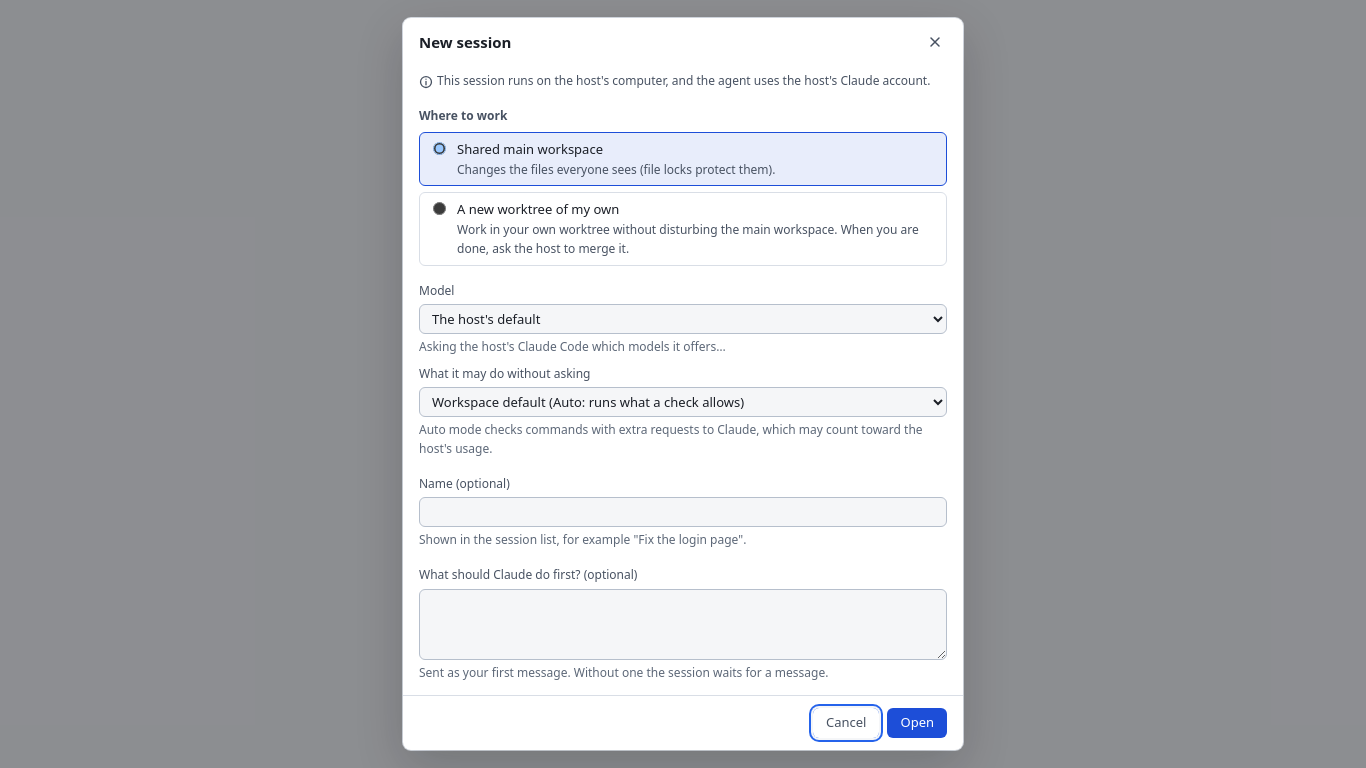
Test: new session dialog: where it runs (R9) › a repository that cannot hold a worktree yet: the host refuses with the reason and what to do, and the dialog says it
What coordinates should you click on to do the following:
click the radio button labelled "A new worktree of my own"
I would click on:
 (440, 209)
Its box is [433,202,446,215].
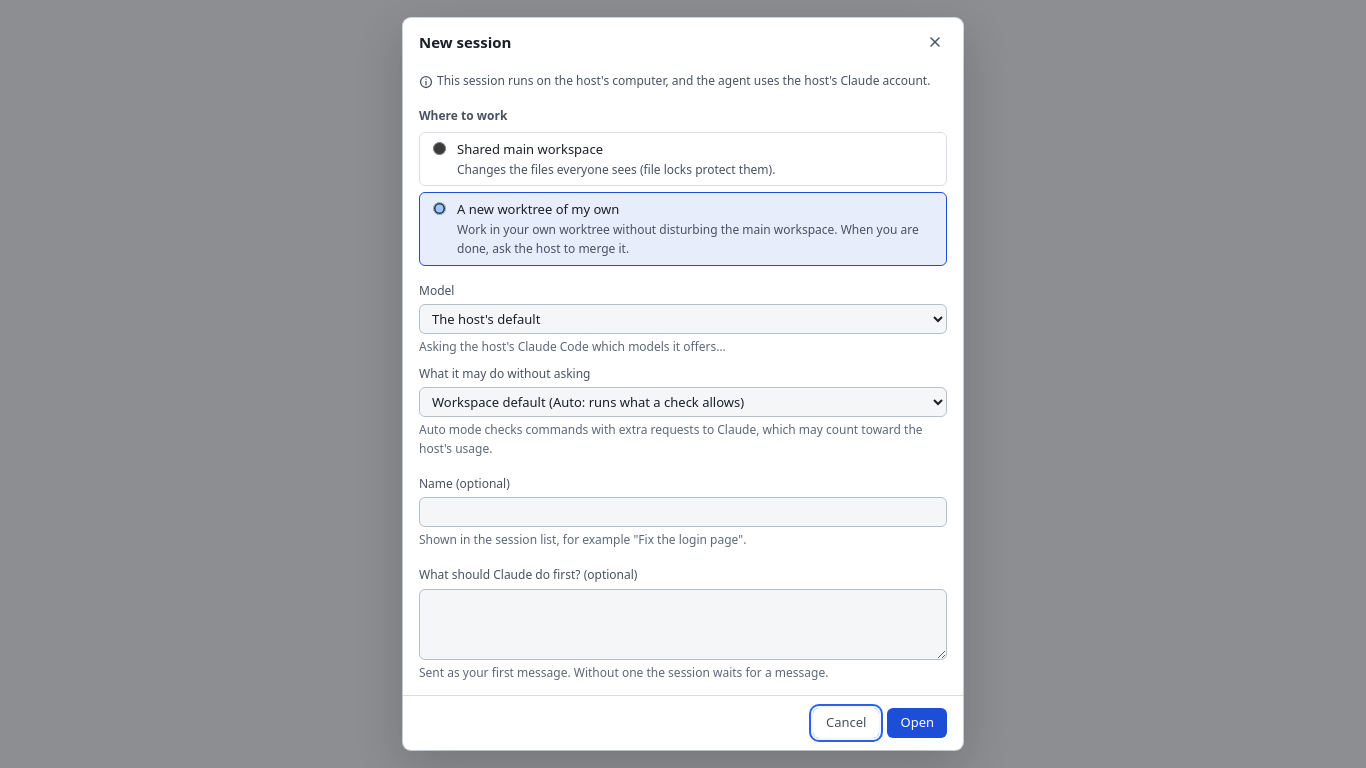
What coordinates should you click on to do the following:
click the button "Open"
I would click on:
 (917, 723)
Its box is [888,708,947,738].
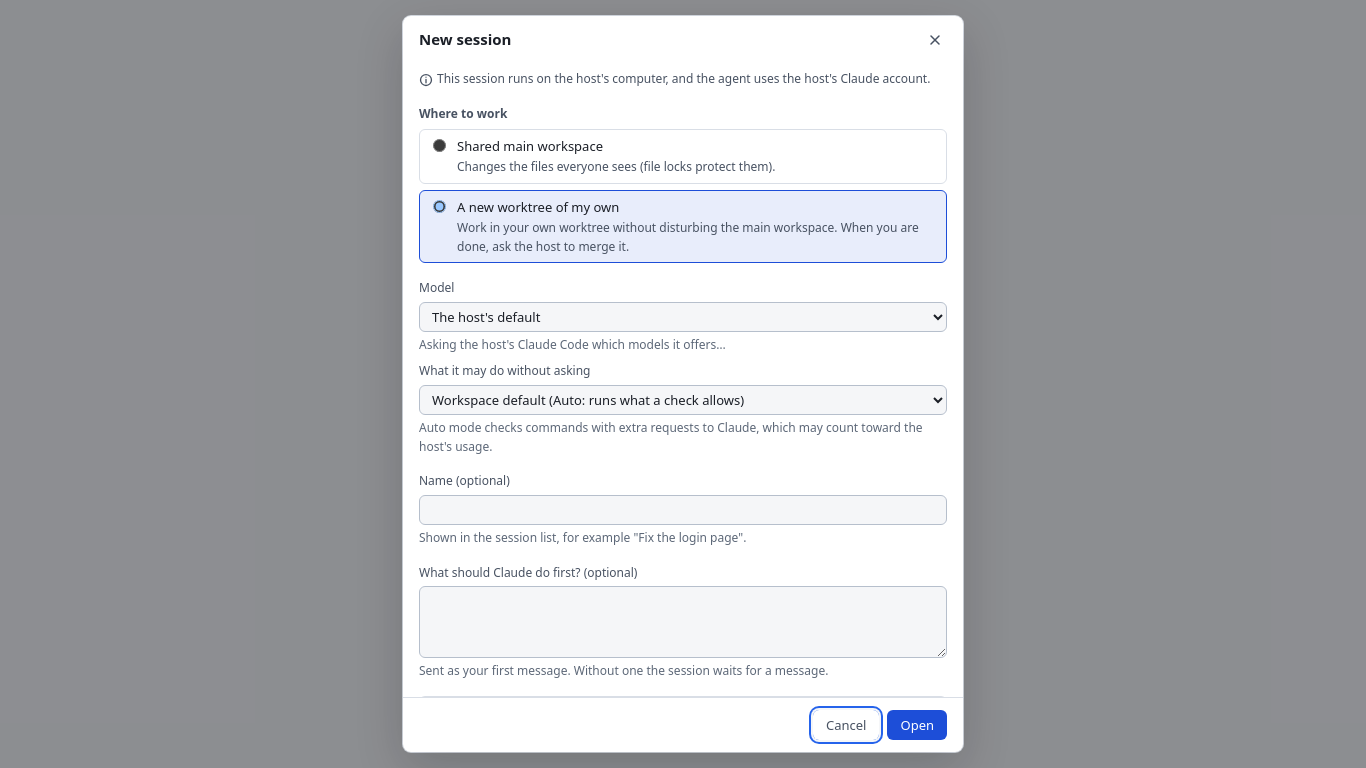
What coordinates should you click on to do the following:
click the button "Open"
I would click on:
 (917, 725)
Its box is [888,710,947,740].
(page scrolled)
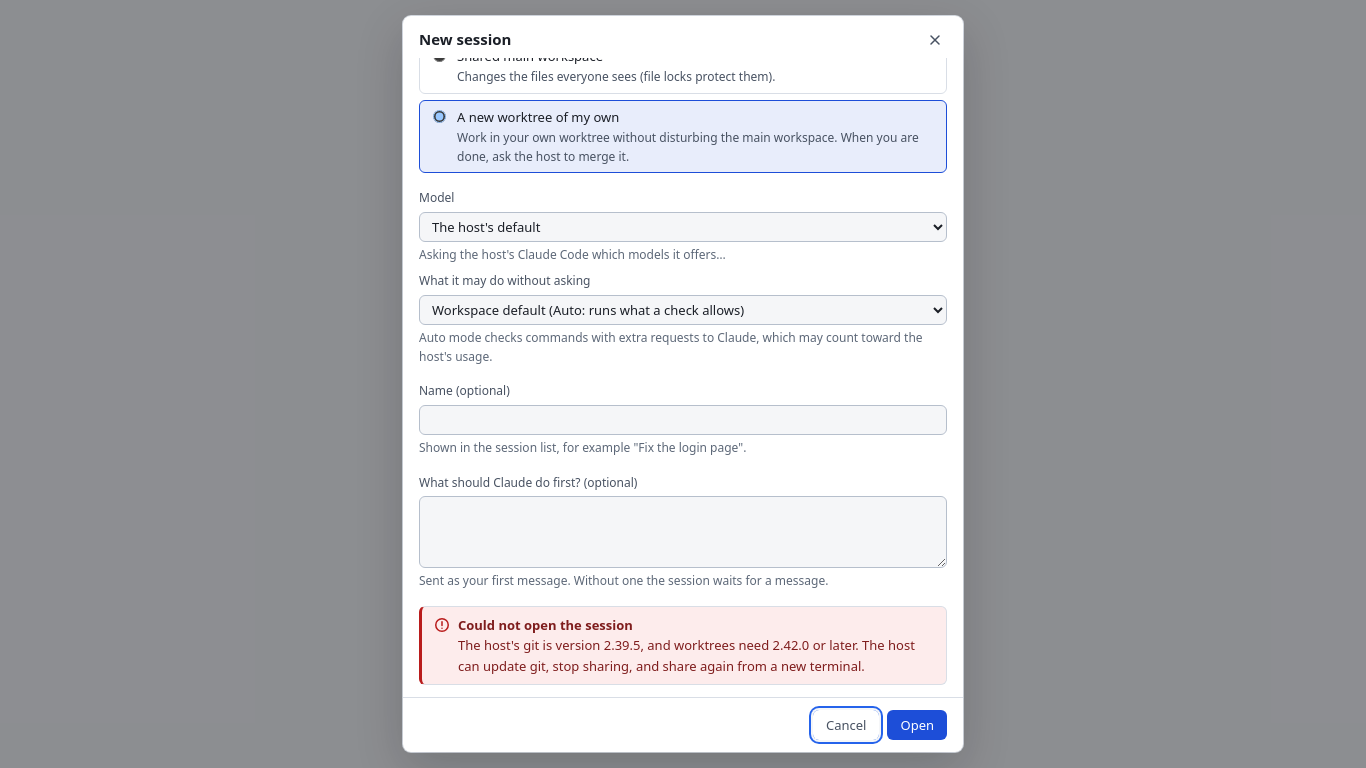
Expected: the message shows "The host's git is version 2.39.5, and worktrees need 2.42.0 or later. The host can update git, stop sharing, and share again from a new terminal.", [458,636,915,674]
